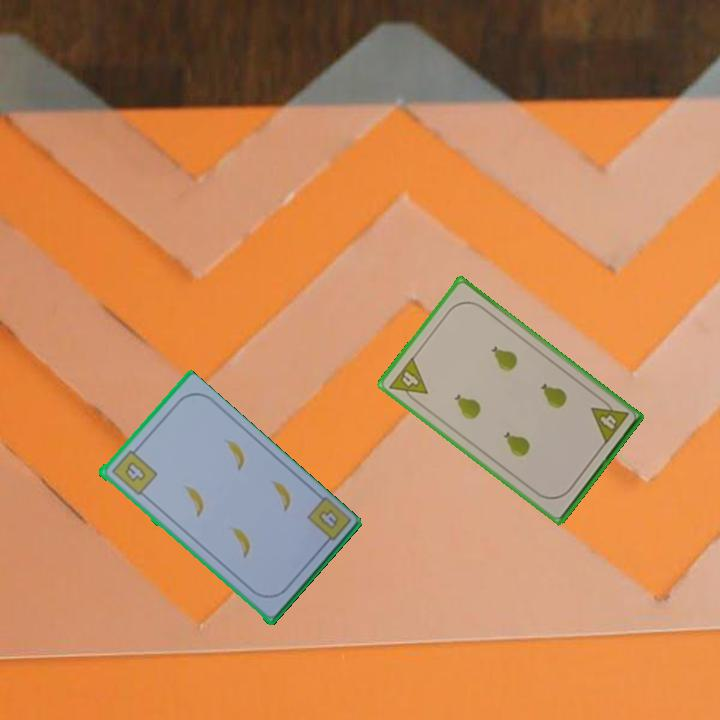4b: (303, 494, 353, 551), (108, 444, 160, 498)
4p: (385, 353, 431, 407), (587, 394, 631, 447)
